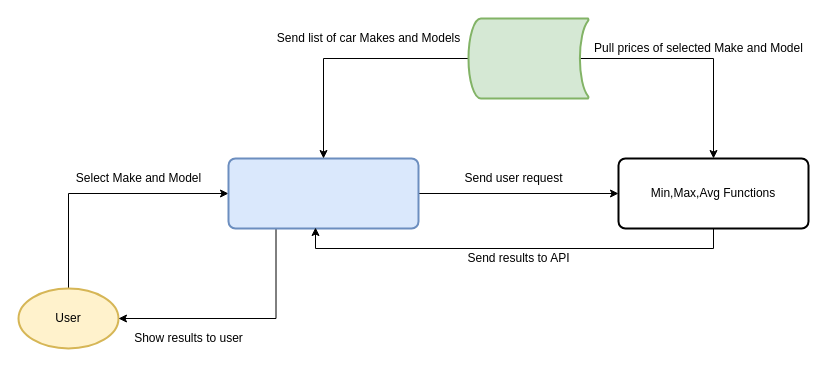
Image size: 826x366. Some labels were removed from this diagram. The box of each missing label's shape, as (x1, y1, x2, y2) in pixels:
Cars Database: (467, 17, 589, 99)
Web Page API: (227, 157, 419, 229)
